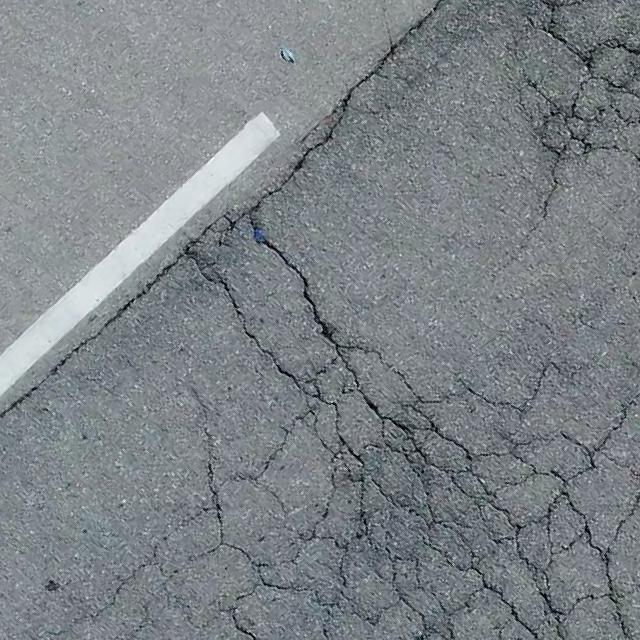GRIETA: (0, 220, 218, 418), (189, 255, 302, 390), (333, 0, 446, 130), (250, 217, 337, 349), (229, 128, 333, 228), (519, 164, 558, 249), (189, 385, 216, 495), (605, 493, 639, 560), (599, 392, 639, 448), (602, 450, 639, 477)
PIEL DE COCODRILO: (19, 336, 639, 639), (492, 0, 639, 165)
